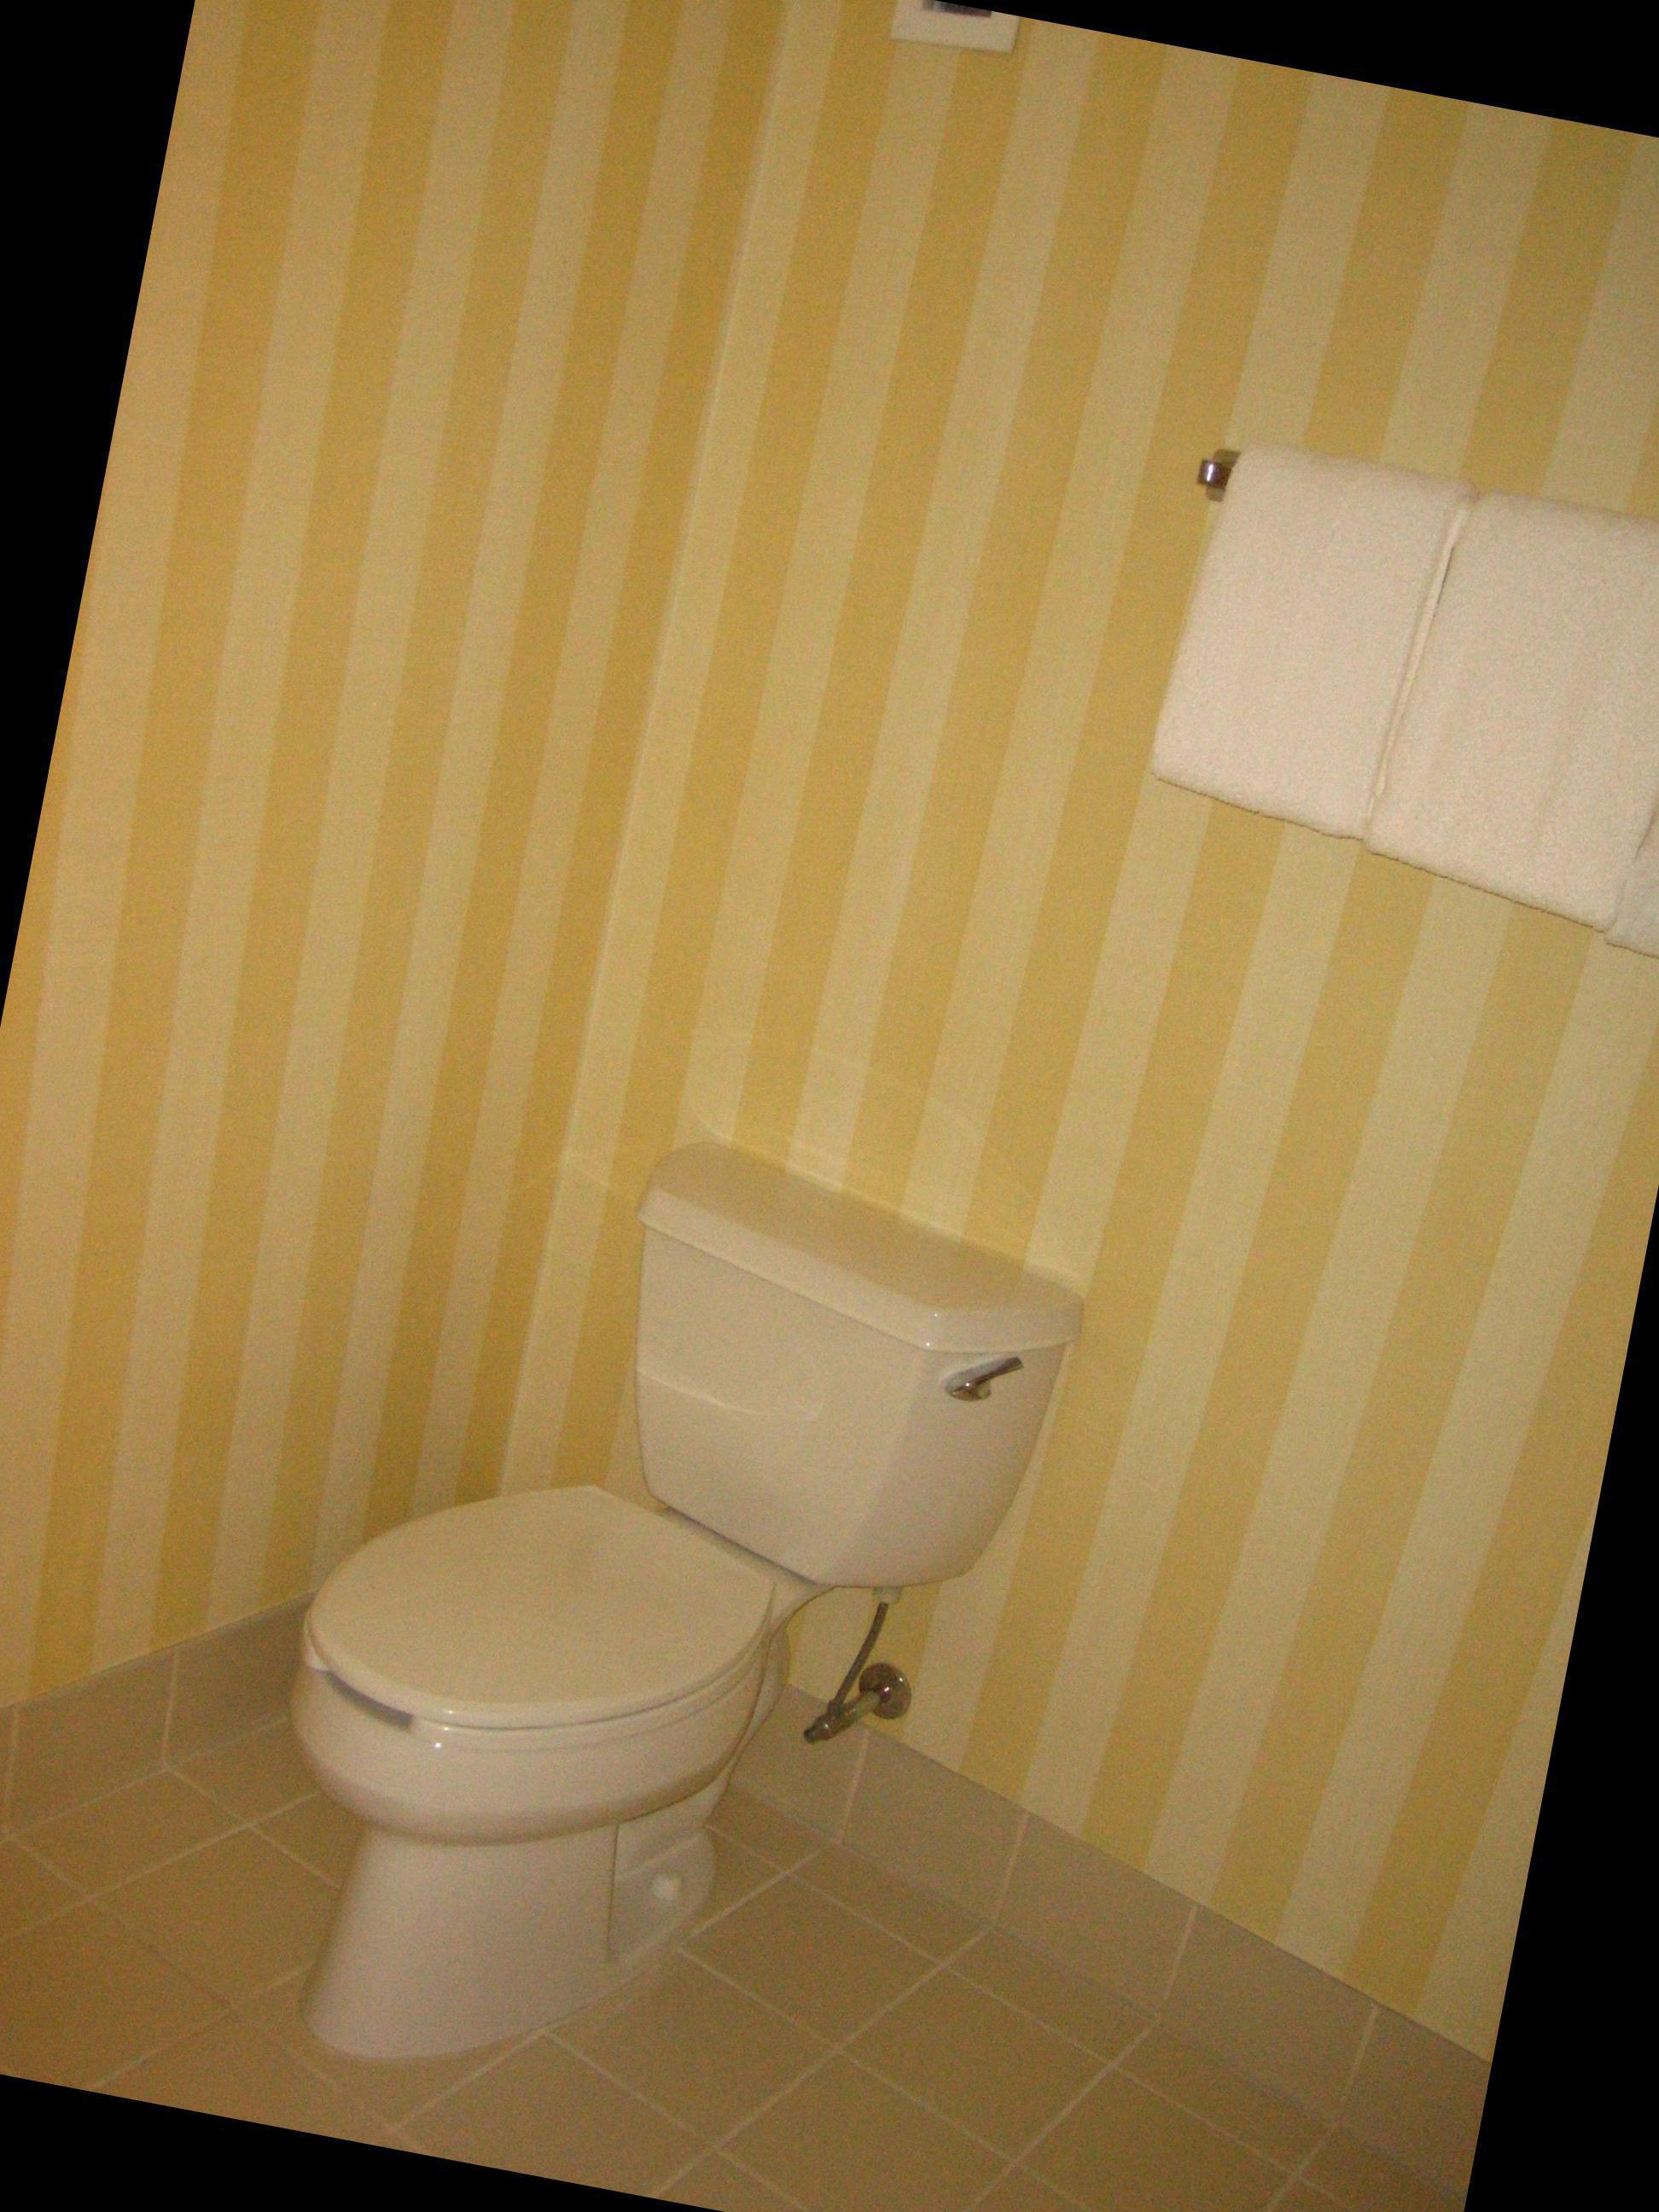Sanitario: (148, 1068, 1119, 2196)
